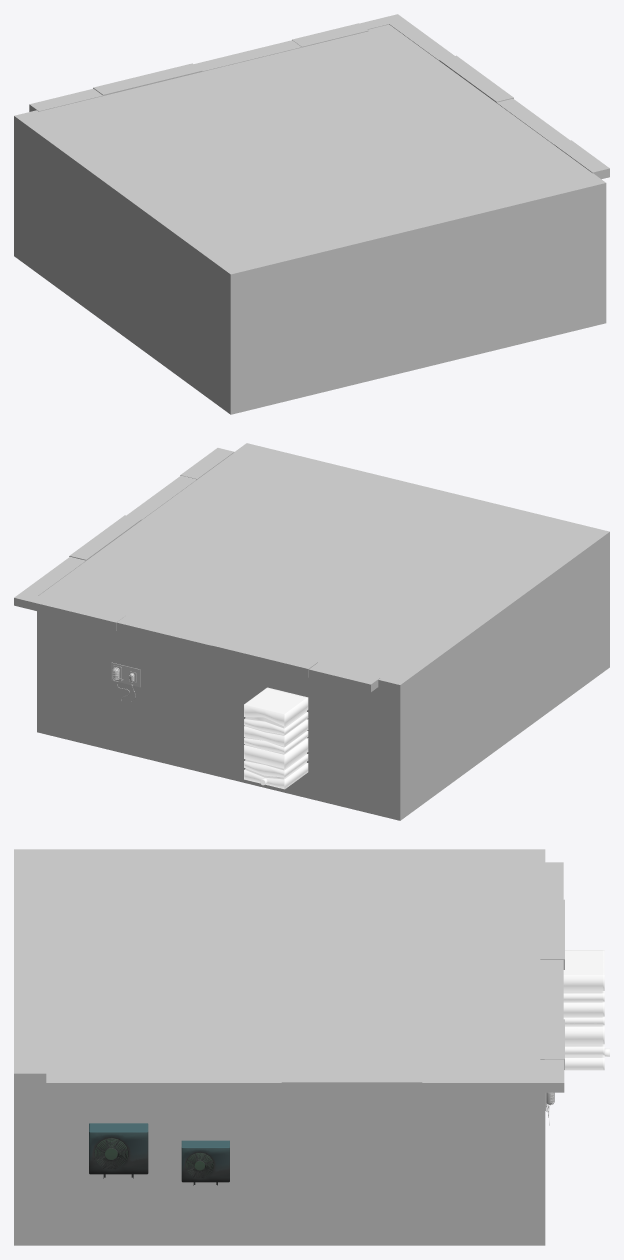
The model's file is exterieur4.glb.
3 renders of one model, top to bottom at view 1: azimuth 30°, elevation 25°; view 2: azimuth 150°, elevation 25°; view 3: azimuth 270°, elevation 25°, orthographic. The views are drawn at different scales.
Visible parts, largest first — view 1: Etage, Border_top.003, Border_top.001, Border_corner_top.001; view 2: Etage, Border_top.003, G9_SM_citerne_exterieur_emeline, Border_top.001, Border_corner_top.001, G9_SM_lampeEXT_exterieur_kai; view 3: Etage, Border_top.001, G9_SM_citerne_exterieur_emeline, Border_top.003, G9_DM_ventilator_exterieur_yolan, G9_DM_ventilator_exterieur_yolan.001, Border_corner_top.001.
Boxes of the visible parts, box(x1,y1,x2,y2) form: Etage: box(14, 24, 606, 414); Border_top.003: box(29, 23, 368, 111); Border_top.001: box(402, 29, 609, 179); Border_corner_top.001: box(359, 14, 418, 33); Etage: box(37, 443, 609, 820); Border_top.003: box(51, 600, 379, 692); G9_SM_citerne_exterieur_emeline: box(244, 687, 308, 789); Border_top.001: box(34, 448, 234, 586); Border_corner_top.001: box(14, 583, 58, 614); G9_SM_lampeEXT_exterieur_kai: box(111, 662, 140, 701); Etage: box(14, 849, 545, 1245); Border_top.001: box(46, 1072, 512, 1093); G9_SM_citerne_exterieur_emeline: box(563, 950, 609, 1070); Border_top.003: box(540, 862, 564, 1069); G9_DM_ventilator_exterieur_yolan: box(89, 1123, 148, 1178); G9_DM_ventilator_exterieur_yolan.001: box(181, 1140, 229, 1185); Border_corner_top.001: box(513, 1059, 564, 1092).
Bounding box in the file's own units: 8.85 × 3.03 × 9.42.
Materials: 5 (1 with a texture image).
